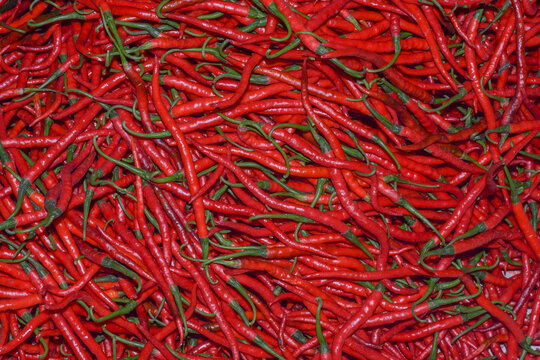Cabai: (168, 78, 377, 283)
